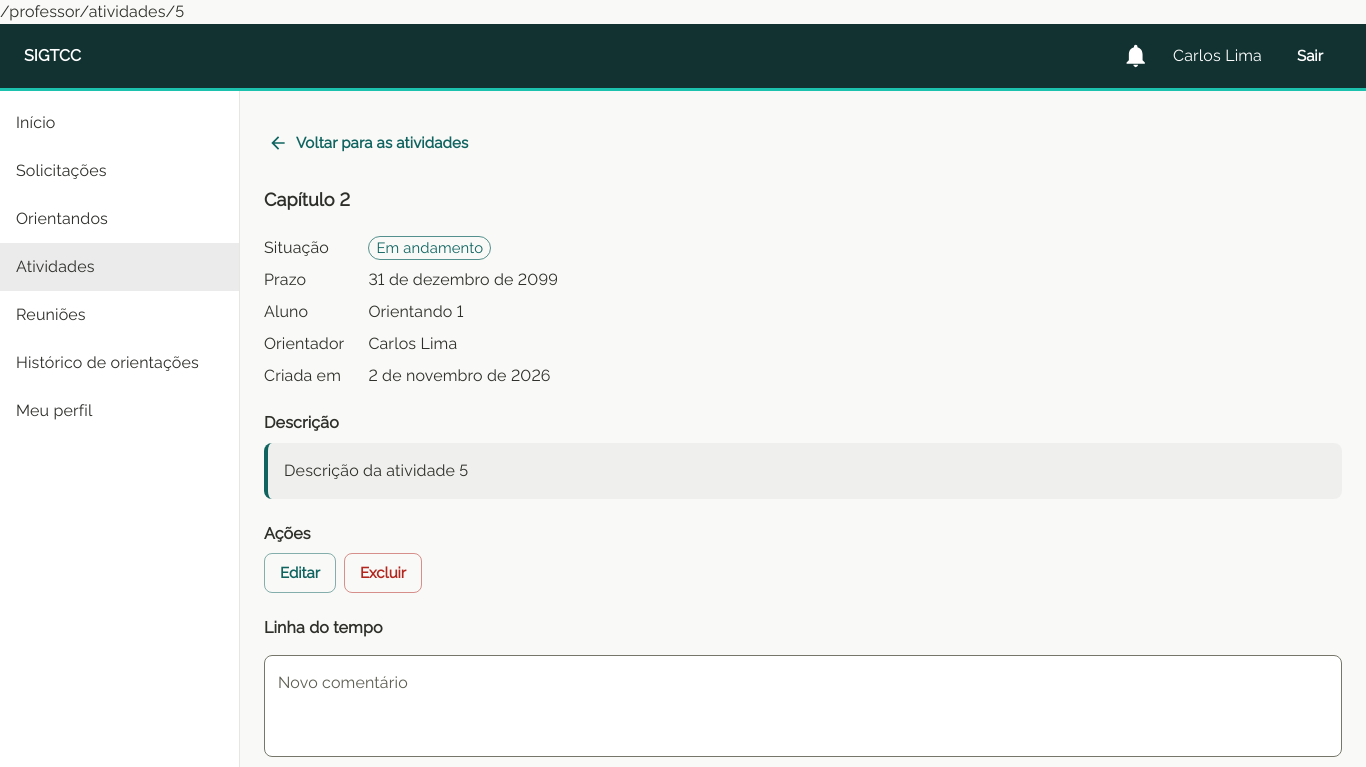
Test: Excluir atividade: o resultado › sem origem, volta à lista do professor
The width and height of the screenshot is (1366, 767).
Click the button "Excluir": (383, 573) [344,553,422,593]
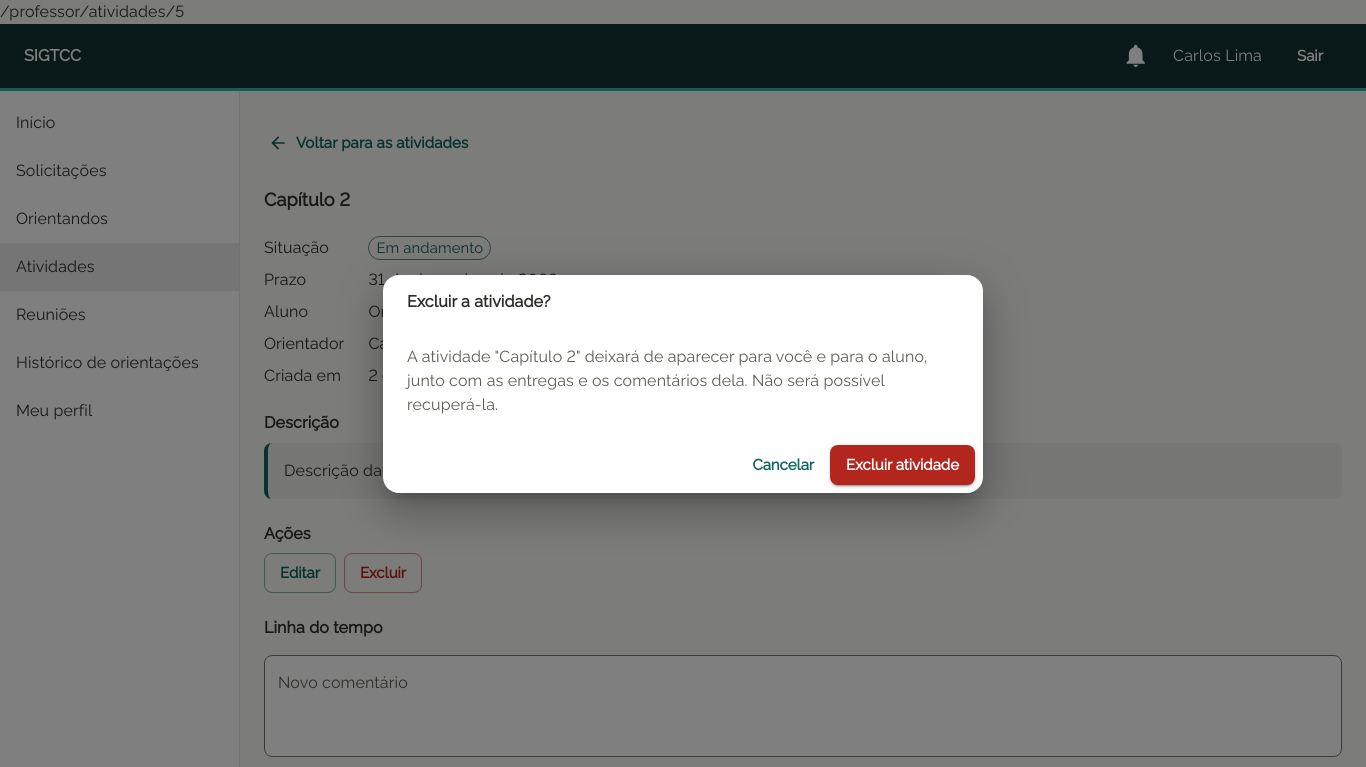
Click the button "Excluir atividade": (903, 465) [830,445,975,485]
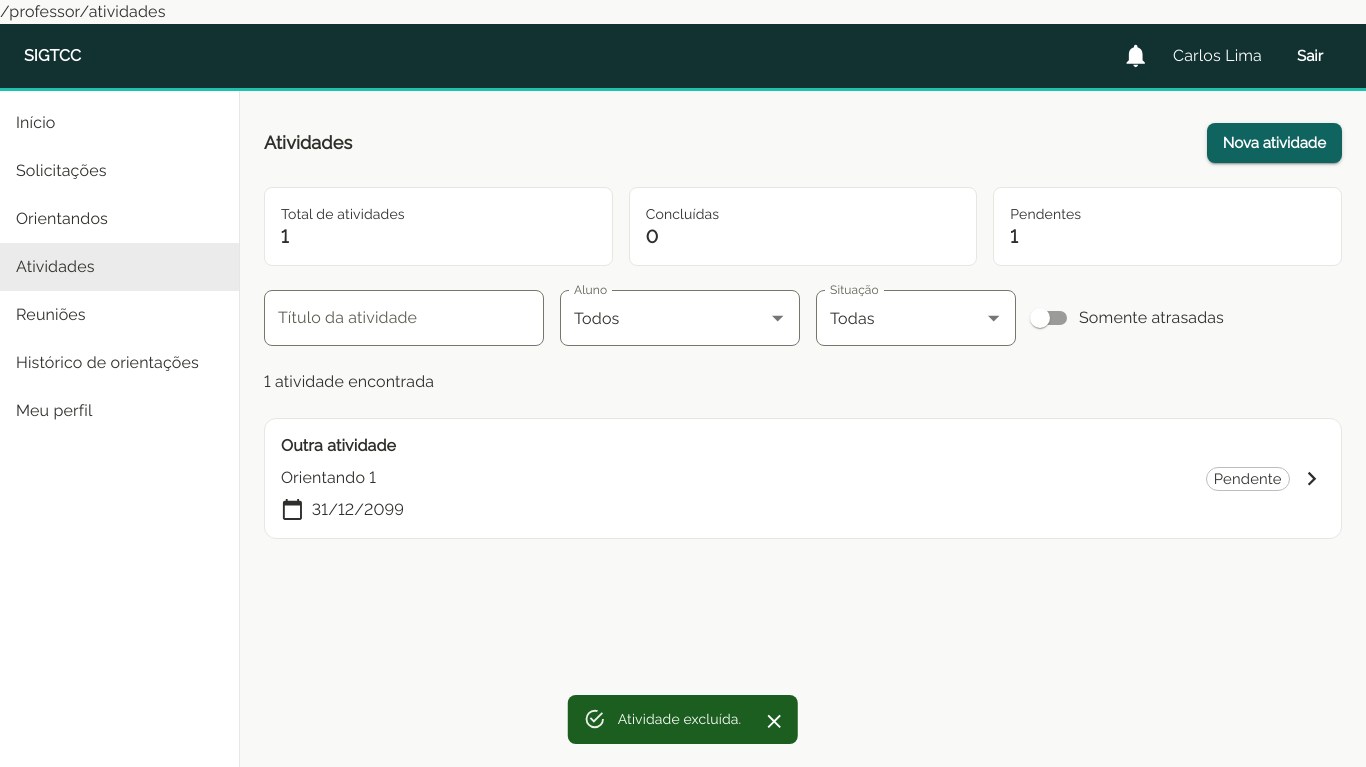
Check: the text with test id "location" reads "/professor/atividades", box [0,2,166,21]
Check: the heading "Outra atividade" is shown, box [281,436,404,458]
